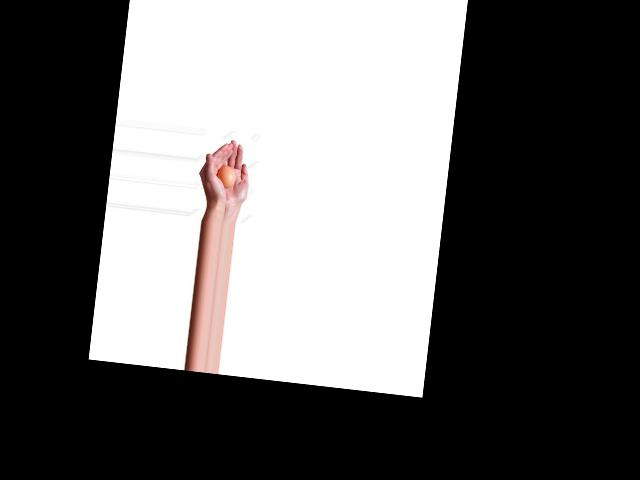egg: (215, 164, 235, 187)
